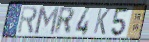4: (74, 6, 90, 37)
5: (109, 7, 133, 38)
K: (92, 7, 112, 37)
M: (34, 6, 61, 36)
R: (16, 5, 39, 36), (53, 6, 76, 36)
